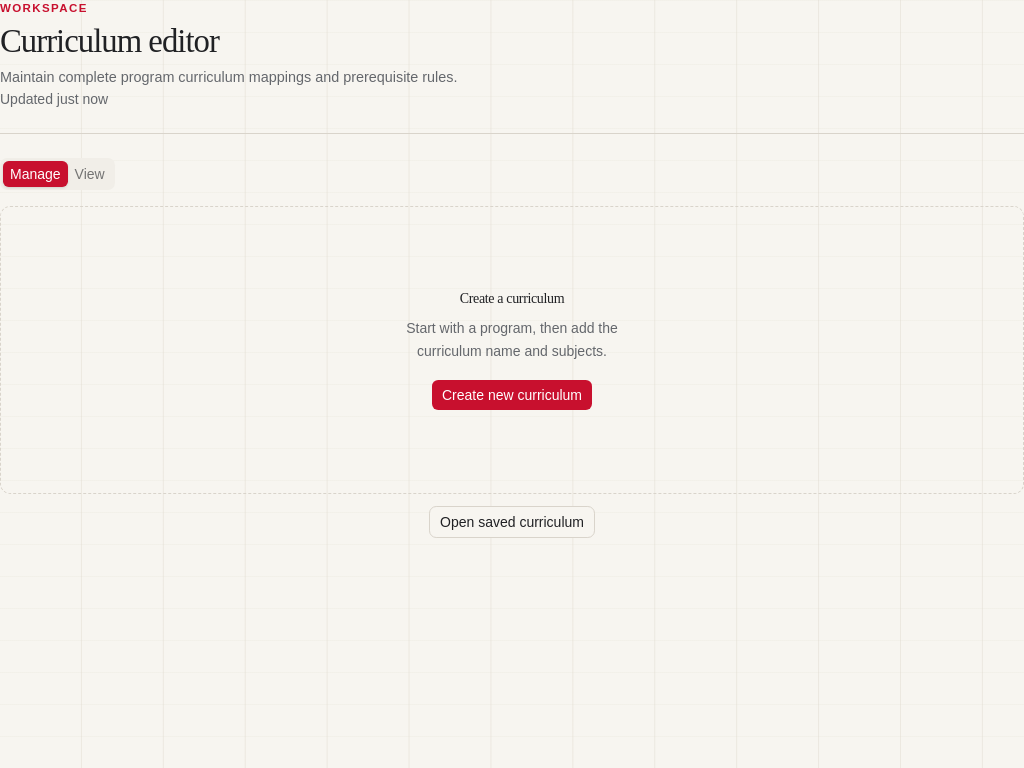
CurriculumWorkspace › offers only the latest in-progress curriculum from the saved-curriculum picker
The width and height of the screenshot is (1024, 768).
Click the button "Open saved curriculum" at (512, 522), box [429,506,595,538]
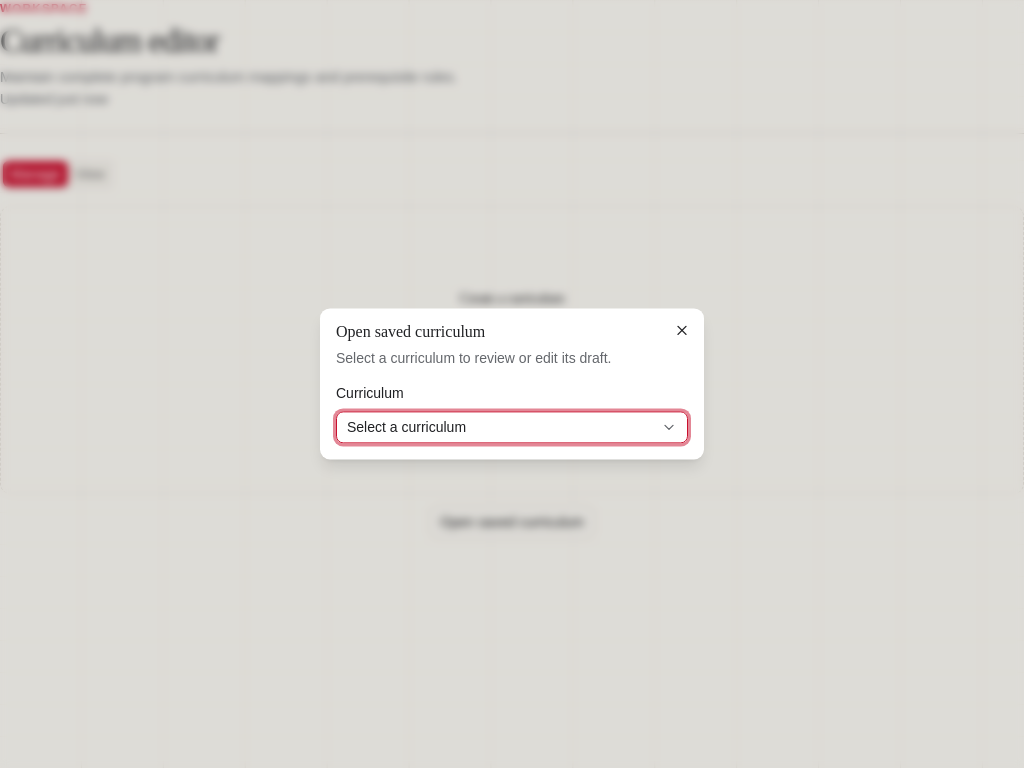
Click the dropdown labelled "curriculum" at (407, 428), box [336,412,688,444]
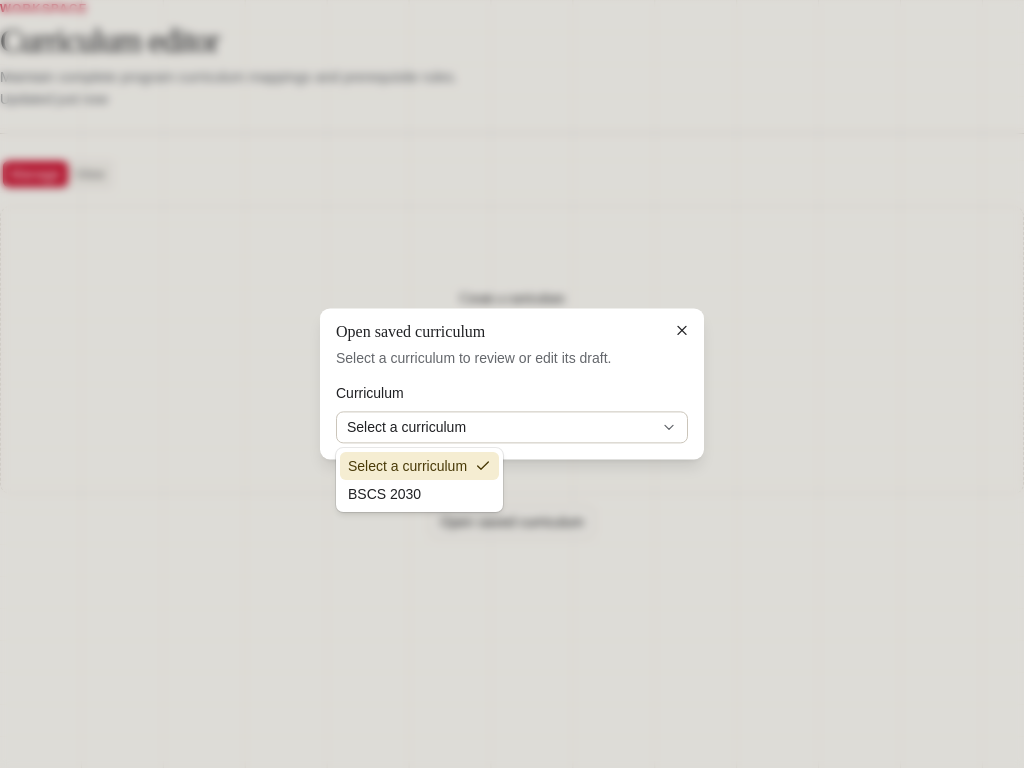
Expected: the option "BSCS 2030" is shown, [348,486,421,502]
